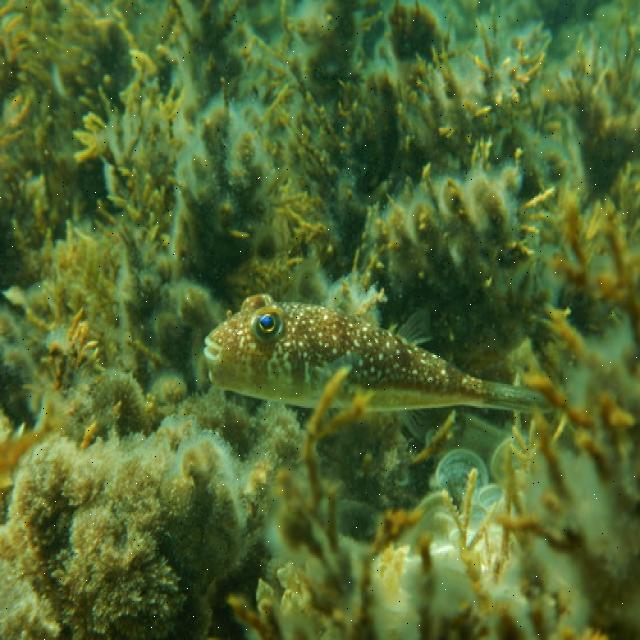Balik: (205, 296, 543, 411)
